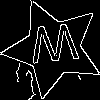W: (28, 23, 81, 74)
